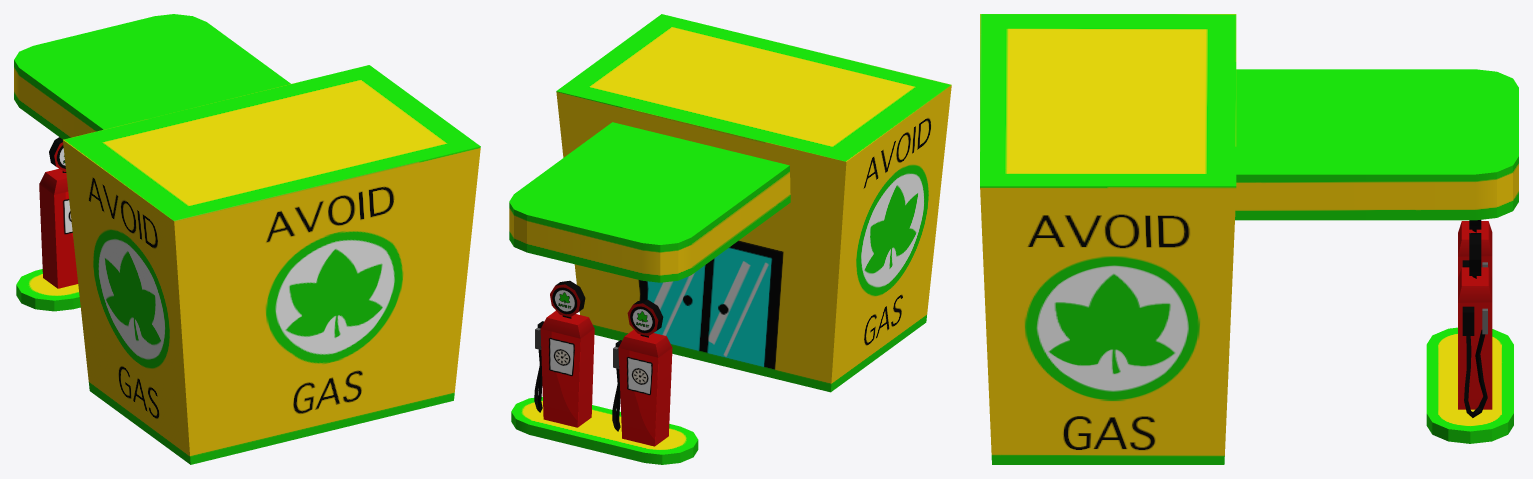
Rendered from GasStation.fbx.
3 renders of one model, left to right at view 1: azimuth 30°, elevation 25°; view 2: azimuth 150°, elevation 25°; view 3: azimuth 270°, elevation 25°, orthographic. The views are drawn at different scales.
Parts seen in each view (by area): view 1: TODOS:GasStation:GasStationBuilding1:pCube4, TODOS:GasStation:GasStationBuilding1:polySurface1, TODOS:GasStation:pCube1, TODOS:GasStation:GasStationBuilding1:polySurface4; view 2: TODOS:GasStation:GasStationBuilding1:pCube4, TODOS:GasStation:GasStationBuilding1:polySurface1, TODOS:GasStation:GasStation1:pCube1, TODOS:GasStation:pCube1, TODOS:GasStation:GasStationBuilding1:polySurface4, TODOS:GasStation:GasStation1:pCylinder2, TODOS:GasStation:pCylinder2; view 3: TODOS:GasStation:GasStationBuilding1:pCube4, TODOS:GasStation:GasStationBuilding1:polySurface1, TODOS:GasStation:GasStationBuilding1:polySurface4, TODOS:GasStation:GasStation1:pCube1, TODOS:GasStation:pCube1, TODOS:GasStation:GasStation1:pPlane1, TODOS:GasStation:GasStation1:pCylinder2.
Part boxes in pixels (x1,y1,x2,y2): TODOS:GasStation:GasStationBuilding1:pCube4: (63,65,480,464); TODOS:GasStation:GasStationBuilding1:polySurface1: (14,14,290,139); TODOS:GasStation:pCube1: (39,169,78,288); TODOS:GasStation:GasStationBuilding1:polySurface4: (16,269,80,311); TODOS:GasStation:GasStationBuilding1:pCube4: (556,14,951,392); TODOS:GasStation:GasStationBuilding1:polySurface1: (509,122,790,282); TODOS:GasStation:GasStation1:pCube1: (540,311,594,427); TODOS:GasStation:pCube1: (618,330,672,446); TODOS:GasStation:GasStationBuilding1:polySurface4: (511,397,698,464); TODOS:GasStation:GasStation1:pCylinder2: (550,280,585,317); TODOS:GasStation:pCylinder2: (627,299,663,336); TODOS:GasStation:GasStationBuilding1:pCube4: (980,14,1236,464); TODOS:GasStation:GasStationBuilding1:polySurface1: (1235,69,1518,220); TODOS:GasStation:GasStationBuilding1:polySurface4: (1426,327,1513,443); TODOS:GasStation:GasStation1:pCube1: (1458,267,1492,409); TODOS:GasStation:pCube1: (1458,221,1492,278); TODOS:GasStation:GasStation1:pPlane1: (1464,330,1487,417); TODOS:GasStation:GasStation1:pCylinder2: (1469,233,1481,275).
Size of the model in its own units: 20.03 by 15.77 by 26.48.
